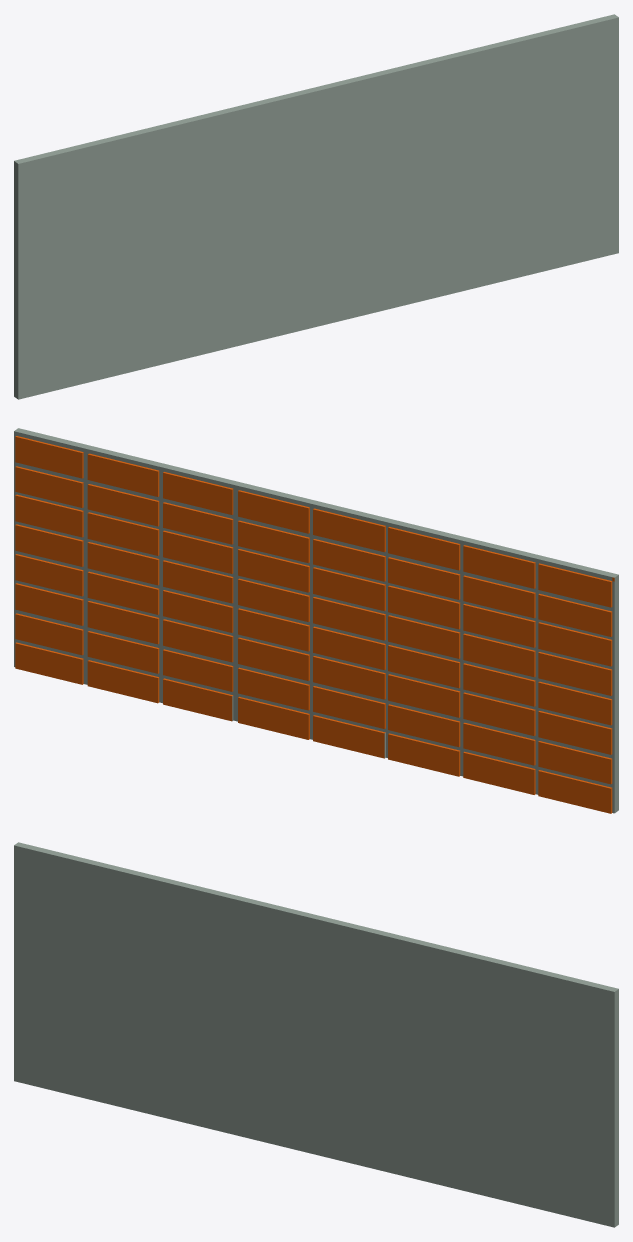
Rendered from pared-mesh.glb.
The picture shows the model from 3 angles, top to bottom: view 1: azimuth 30°, elevation 25°; view 2: azimuth 150°, elevation 25°; view 3: azimuth 330°, elevation 25°; orthographic projection.
Parts seen in each view (by area): view 1: Cube; view 2: Cube; view 3: Cube.
Boxes of the visible parts, bbox=[...] form: Cube: bbox=[14, 14, 618, 399]; Cube: bbox=[14, 428, 618, 813]; Cube: bbox=[14, 842, 618, 1227].
Size of the model in its own units: 800 by 300 by 13.
